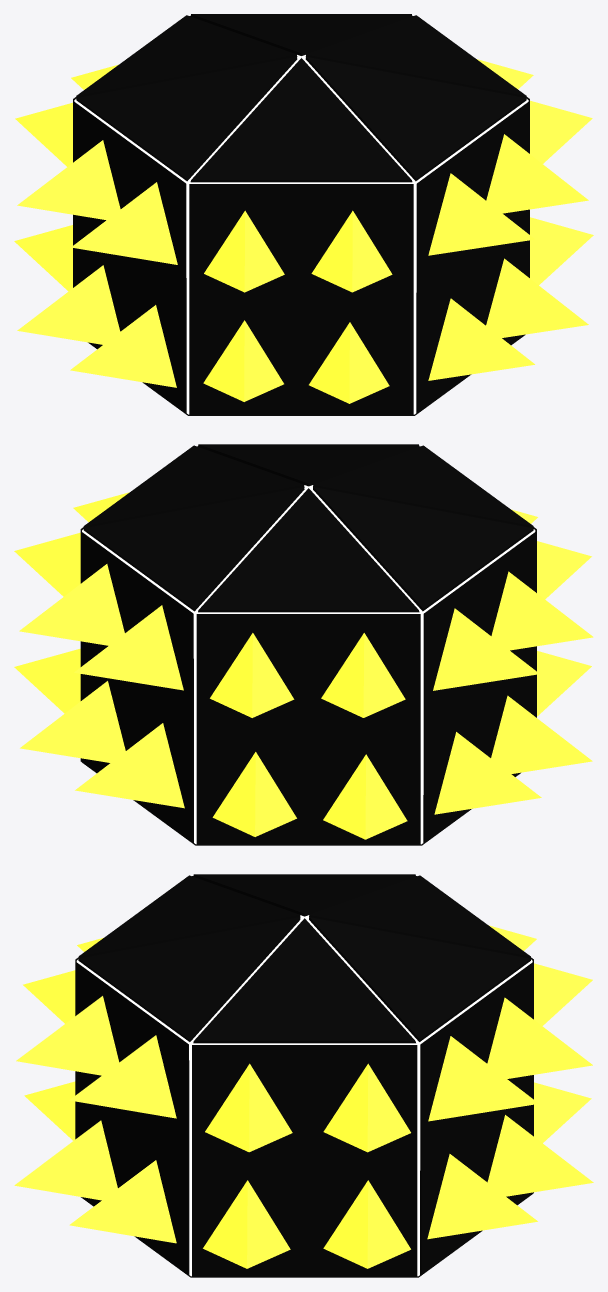
The model's file is Cylinder enemy.glb.
3 views of the same model, one above another, from view 1: azimuth 30°, elevation 25°; view 2: azimuth 150°, elevation 25°; view 3: azimuth 270°, elevation 25° (orthographic).
Parts seen in each view (by area): view 1: Cylinder; view 2: Cylinder; view 3: Cylinder.
Part boxes in pixels (box(x1,y1,x2,y2)): Cylinder: box(14, 14, 593, 415); Cylinder: box(14, 444, 593, 845); Cylinder: box(14, 874, 593, 1277).
Bounding box in the file's own units: 2.41 × 1.22 × 2.3.
